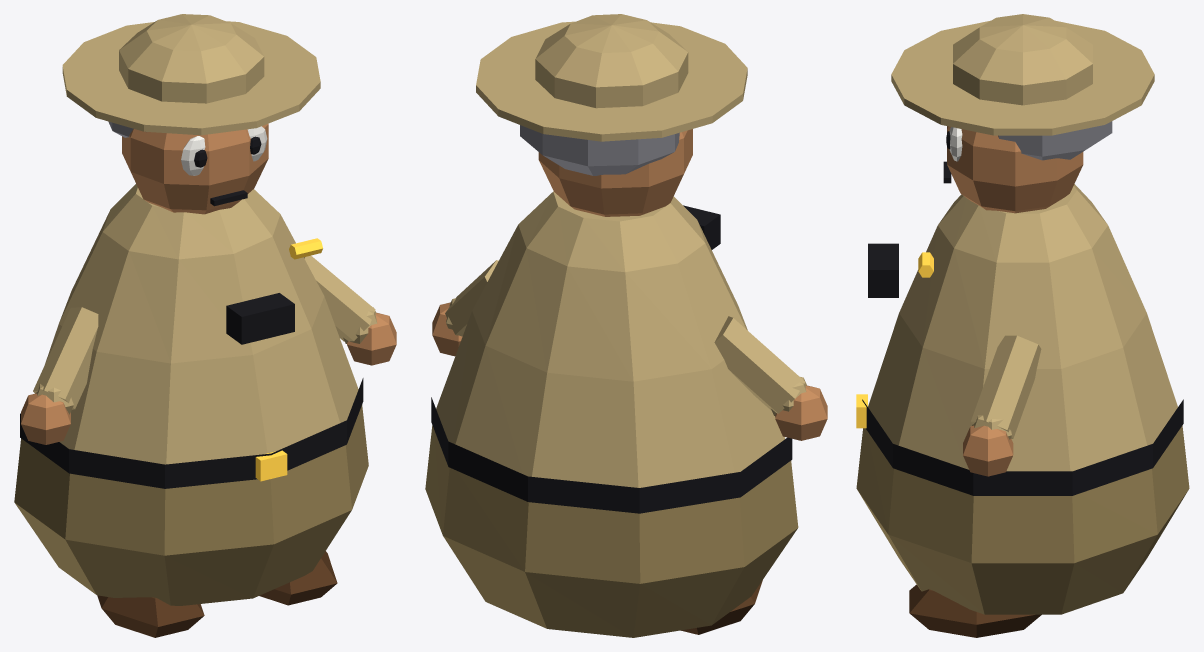
Rendered from npc_jaula.glb.
3 renders of one model, left to right at view 1: azimuth 30°, elevation 25°; view 2: azimuth 150°, elevation 25°; view 3: azimuth 270°, elevation 25°, orthographic. The views are drawn at different scales.
Parts seen in each view (by area): view 1: body_director_khaki, body_director_shorts, hair_director_khaki, head_skin_canela, body_black, arms_director_khaki, legs_director_boots, arms_skin_canela, props_black, face_white, body_gold, face_black; view 2: body_director_khaki, body_director_shorts, hair_director_khaki, body_black, head_skin_canela, arms_director_khaki, hair_hair_grey, arms_skin_canela, legs_director_boots, props_black; view 3: body_director_khaki, body_director_shorts, hair_director_khaki, body_black, head_skin_canela, arms_director_khaki, legs_director_boots, hair_hair_grey, arms_skin_canela, props_black.
Part boxes in pixels (x1,y1,x2,y2): body_director_khaki: (45, 184, 358, 464); body_director_shorts: (14, 405, 368, 605); hair_director_khaki: (62, 14, 320, 135); head_skin_canela: (122, 123, 268, 214); body_black: (20, 378, 363, 488); arms_director_khaki: (33, 255, 377, 414); legs_director_boots: (97, 551, 337, 637); arms_skin_canela: (21, 312, 396, 444); props_black: (226, 293, 294, 344); face_white: (181, 126, 267, 175); body_gold: (255, 450, 287, 481); face_black: (194, 136, 261, 206); body_director_khaki: (436, 191, 785, 487); body_director_shorts: (425, 425, 798, 637); hair_director_khaki: (476, 14, 747, 141); body_black: (431, 397, 792, 513); head_skin_canela: (538, 129, 692, 216); arms_director_khaki: (445, 260, 806, 415); hair_hair_grey: (520, 125, 679, 175); arms_skin_canela: (432, 302, 827, 440); legs_director_boots: (680, 580, 762, 634); props_black: (683, 205, 720, 249); body_director_khaki: (868, 184, 1177, 471); body_director_shorts: (856, 425, 1189, 614); hair_director_khaki: (891, 14, 1154, 135); body_black: (862, 399, 1183, 495); head_skin_canela: (947, 126, 1083, 213); arms_director_khaki: (971, 335, 1041, 439); legs_director_boots: (909, 584, 1041, 637); hair_hair_grey: (998, 121, 1112, 160); arms_skin_canela: (963, 425, 1013, 476); props_black: (868, 243, 898, 297).
Size of the model in its own units: 1.13 by 1.63 by 0.86.
